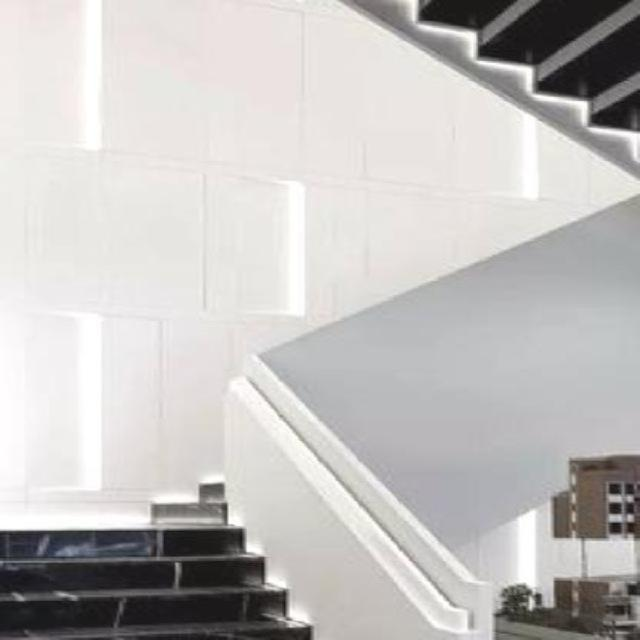stair: (3, 393, 514, 638)
